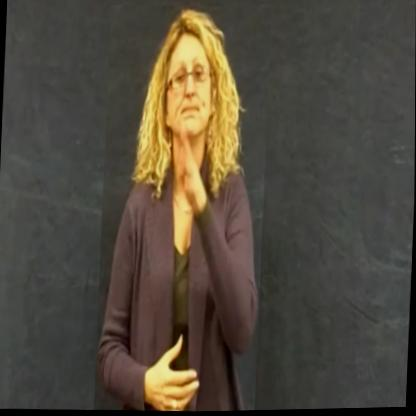Talk: (95, 2, 272, 414)
